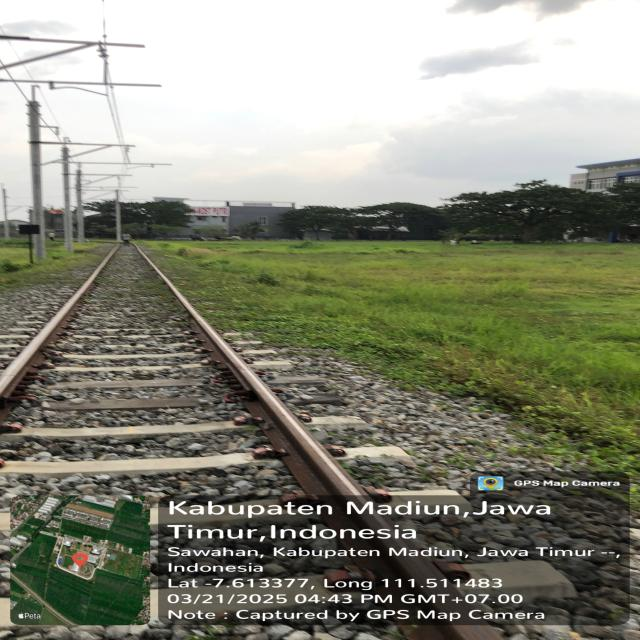rail-detection: (135, 247, 366, 499), (0, 244, 120, 397)
